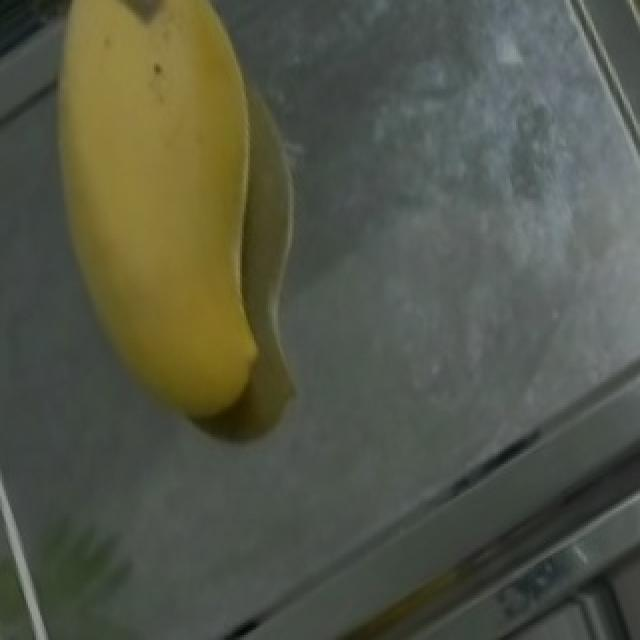fruit: (0, 0, 368, 357)
